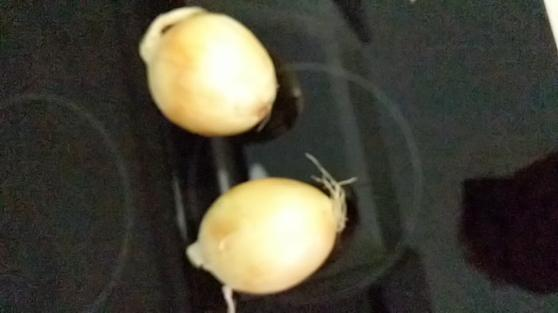onion: (177, 165, 351, 295), (132, 9, 284, 138)
